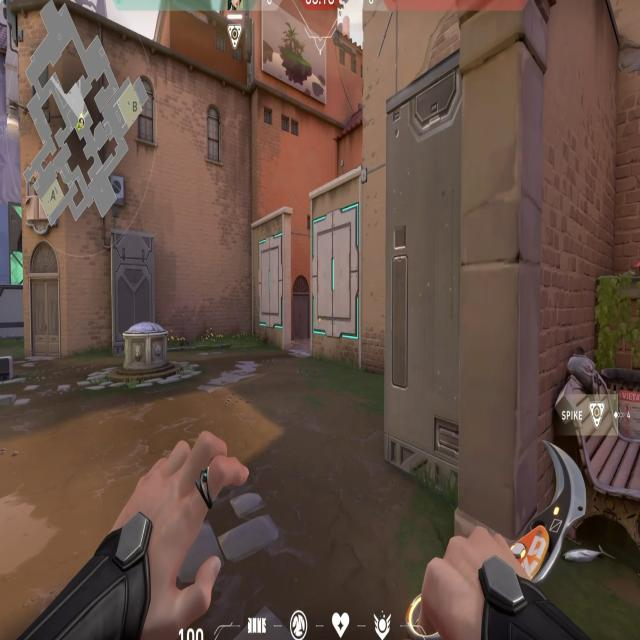Mid_Wall: (310, 182, 365, 354), (248, 208, 289, 350)
